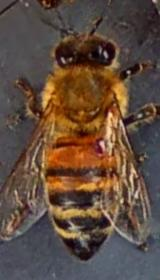varroa_mite: (91, 130, 113, 161)
